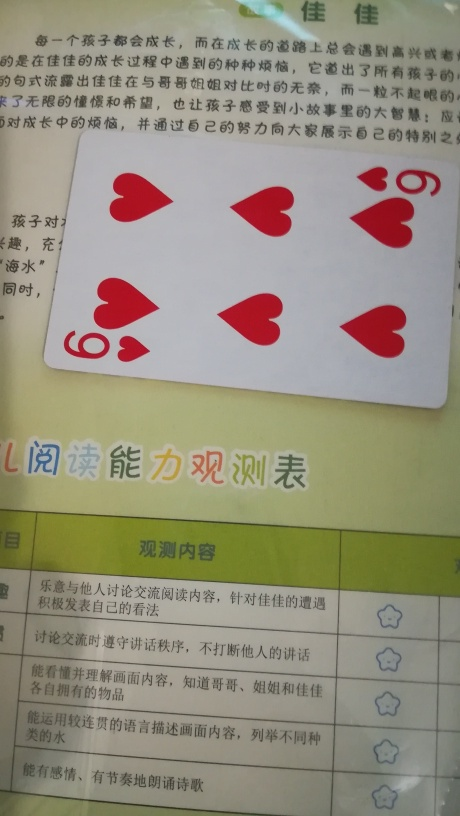hx 6: (48, 124, 460, 419)
